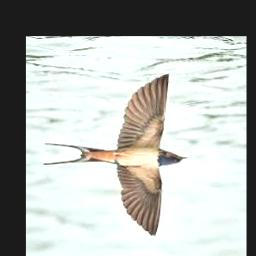Swallow: (44, 75, 188, 237)
